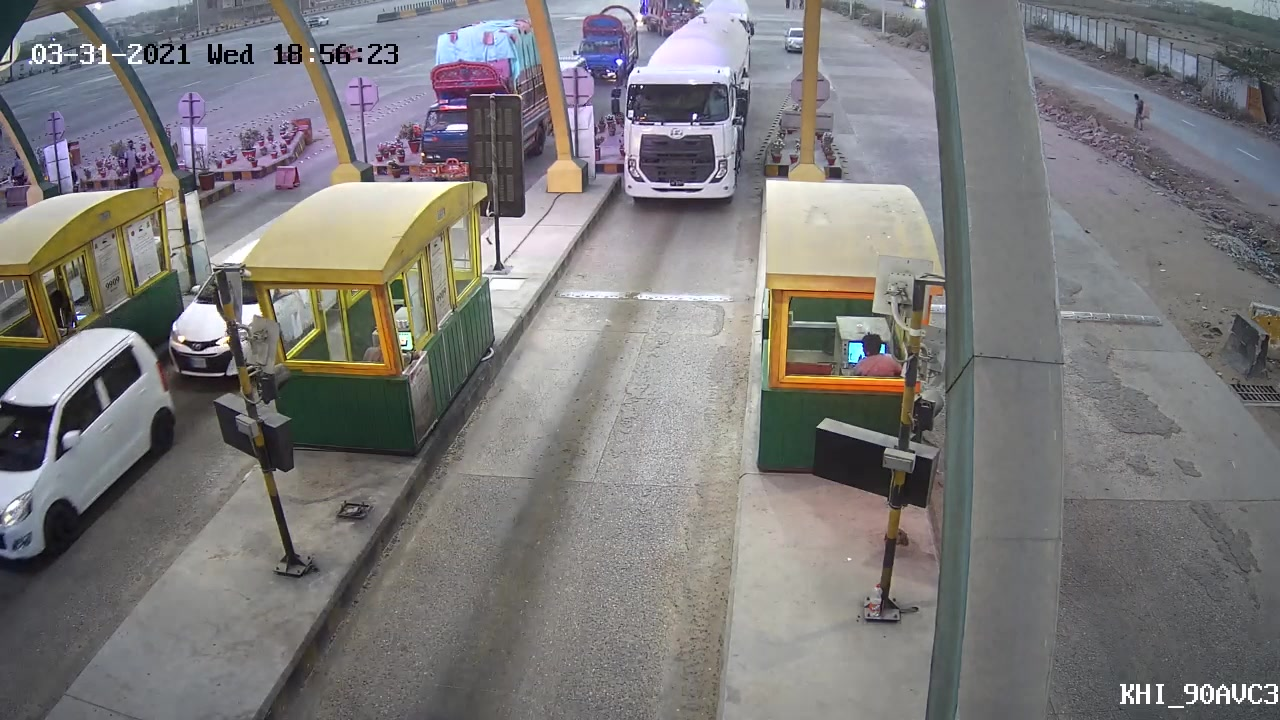F6: (615, 1, 758, 214)
